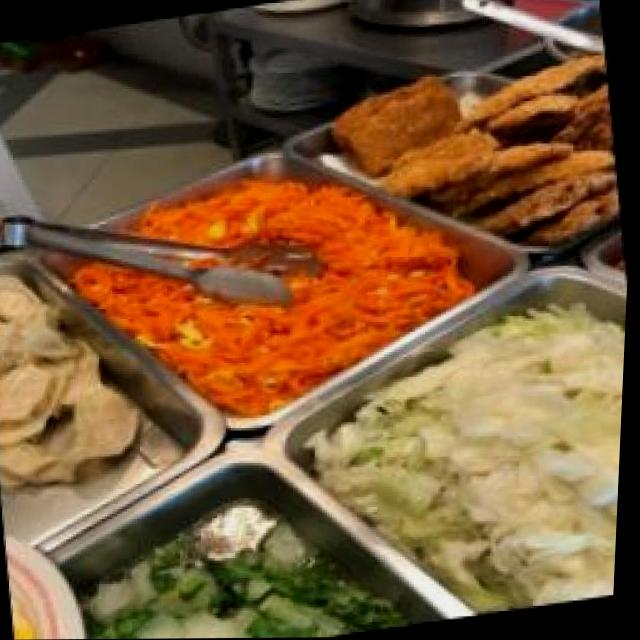carrot_eggs: (103, 170, 439, 387)
chinese_cabbage: (368, 314, 629, 626)
fried_dumplings: (0, 259, 111, 495)
